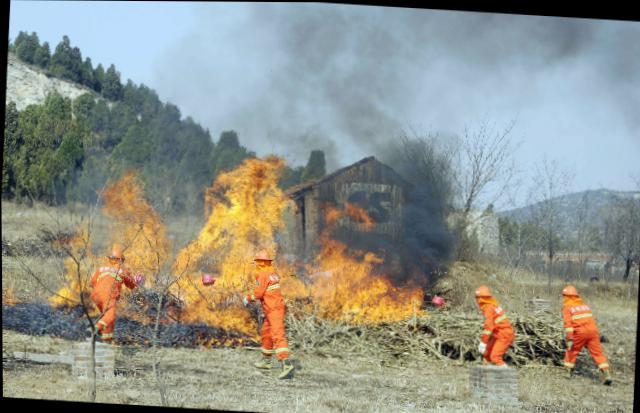fire: (52, 144, 433, 352)
